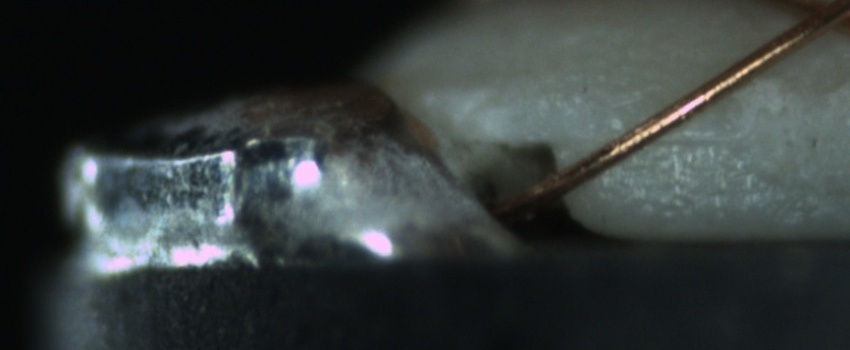CL: (779, 0, 849, 44)
DL: (620, 114, 745, 165)
